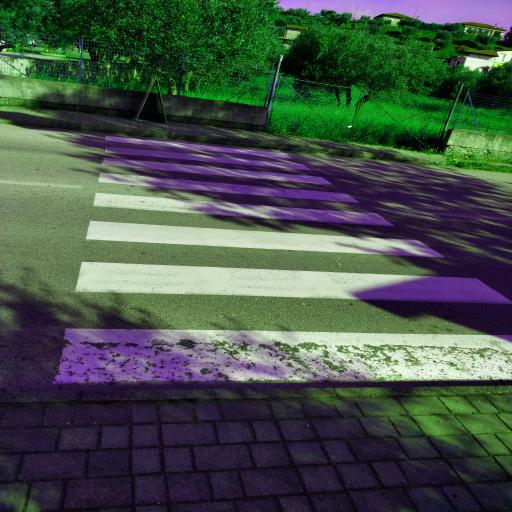crosswalk: (44, 257, 508, 387), (86, 168, 404, 228)
